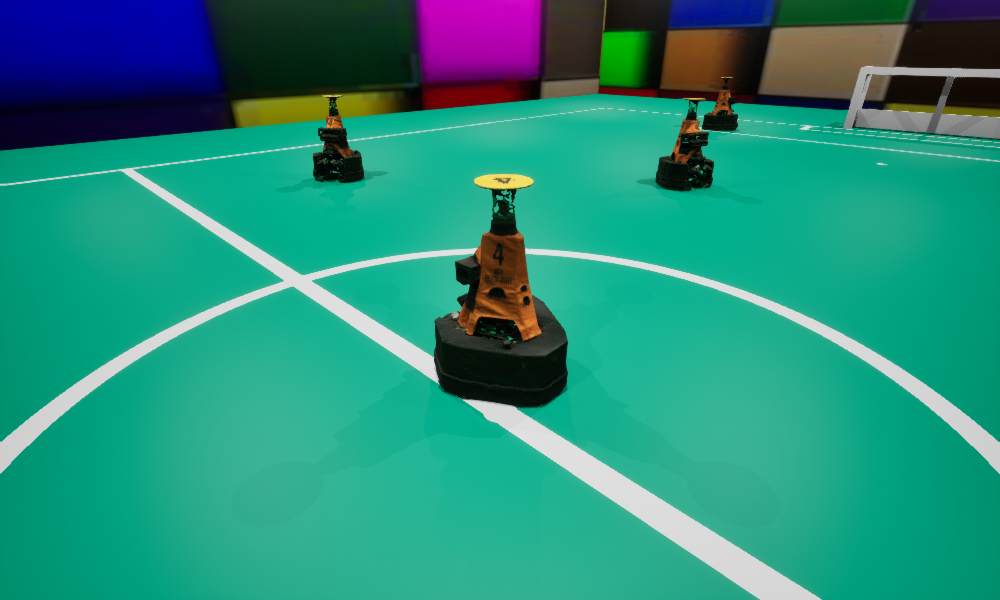0 orange robot TechUnited: (434, 174, 567, 407), (655, 98, 713, 190), (313, 95, 363, 181), (702, 77, 737, 130)
